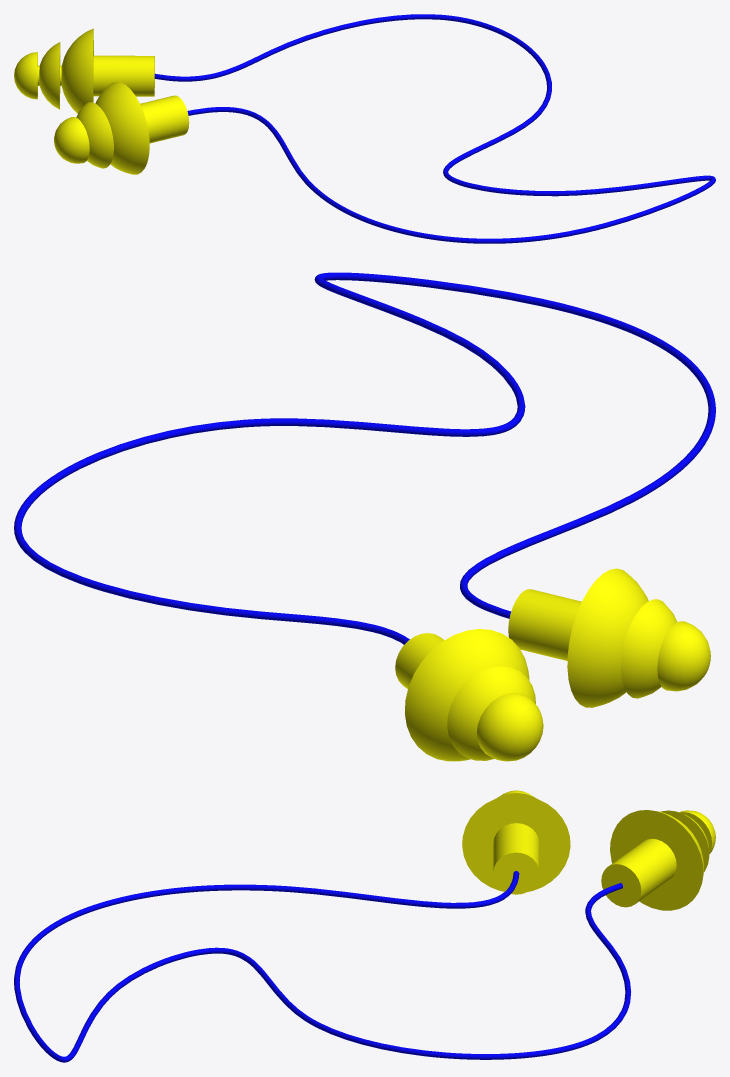
Rendered from SafetyEarplugs.glb.
3 renders of one model, top to bottom at view 1: azimuth 30°, elevation 25°; view 2: azimuth 150°, elevation 25°; view 3: azimuth 270°, elevation 25°, orthographic. The views are drawn at different scales.
Visible parts, largest first — view 1: SafetyEarplugs; view 2: SafetyEarplugs; view 3: SafetyEarplugs.
Boxes of the visible parts, x1,y1,x2,y2 form: SafetyEarplugs: (14, 14, 715, 243); SafetyEarplugs: (14, 272, 715, 761); SafetyEarplugs: (14, 790, 715, 1062).
Bounding box in the file's own units: 0.0934 × 0.0168 × 0.1087.
